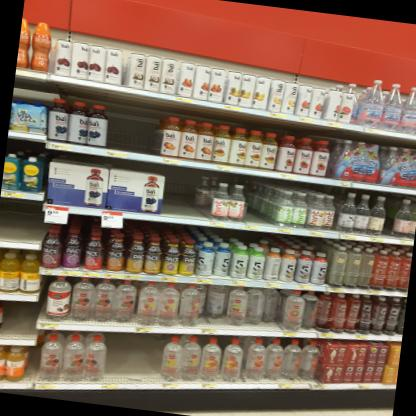empty_space: (161, 164, 215, 219), (131, 95, 164, 155), (106, 90, 137, 152), (103, 332, 131, 383), (125, 333, 150, 383), (258, 177, 281, 227), (145, 333, 167, 384), (0, 197, 24, 242), (20, 199, 44, 243), (243, 174, 264, 224), (14, 301, 39, 339), (381, 192, 399, 238), (0, 299, 18, 339), (0, 196, 4, 240)
